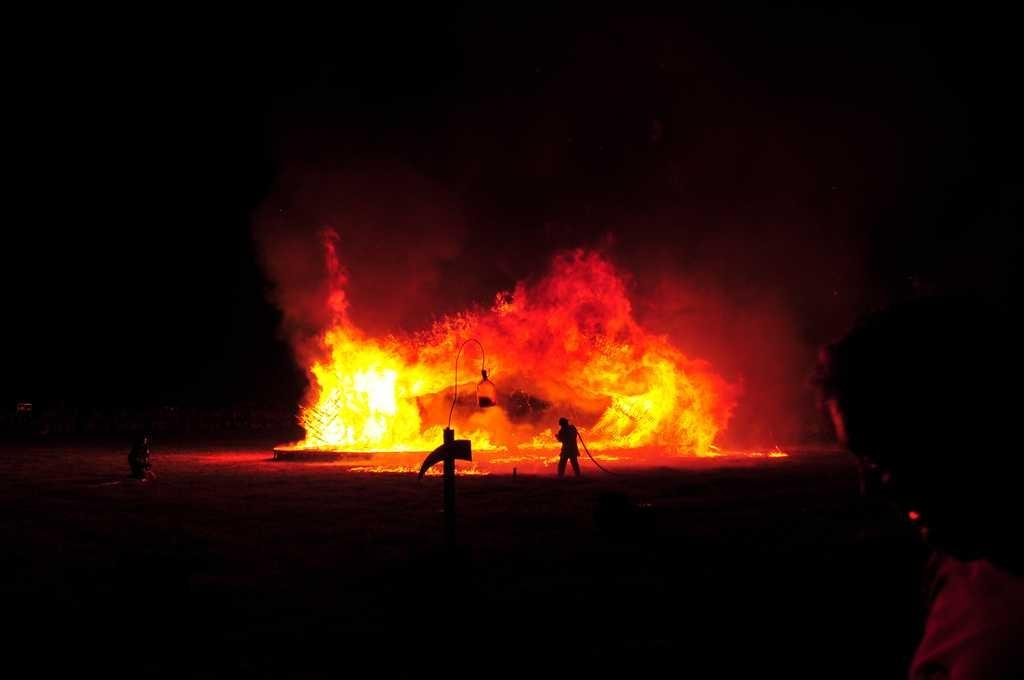fire: (468, 345, 743, 463), (303, 330, 448, 475)
